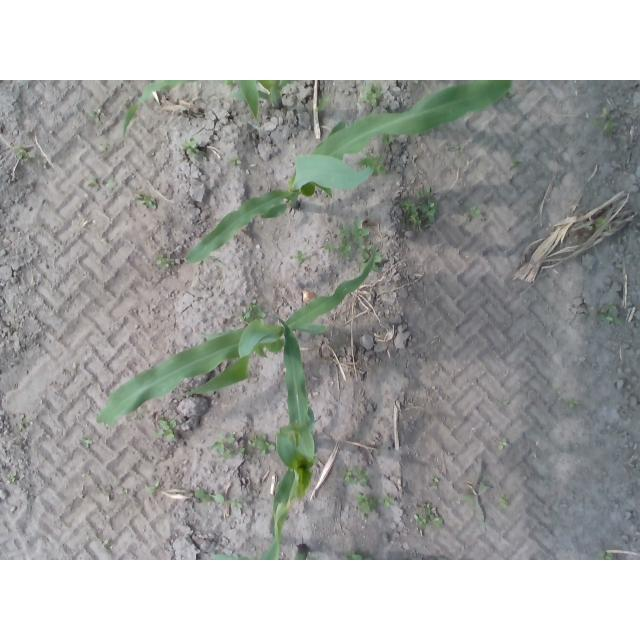Maize: (167, 82, 511, 265), (97, 248, 378, 423), (210, 316, 316, 560), (123, 80, 295, 138)
Weeds: (400, 188, 437, 228), (212, 433, 245, 456), (343, 220, 369, 245), (359, 83, 382, 108), (422, 502, 443, 527), (344, 467, 369, 486), (357, 493, 376, 515), (194, 490, 224, 503), (158, 420, 176, 441), (240, 300, 262, 317), (258, 434, 275, 456), (601, 307, 619, 325), (138, 195, 156, 210), (87, 178, 115, 186), (319, 95, 332, 112), (148, 479, 161, 496), (185, 140, 200, 154), (294, 251, 307, 266), (414, 514, 427, 529), (337, 244, 352, 256), (352, 553, 373, 560), (17, 146, 28, 158), (90, 111, 102, 122), (468, 207, 481, 217), (382, 495, 394, 505), (499, 439, 509, 450), (369, 160, 384, 167), (155, 253, 165, 263), (383, 136, 394, 145), (81, 438, 92, 447), (14, 424, 25, 433), (511, 159, 523, 167), (6, 473, 15, 483), (232, 156, 241, 165), (567, 398, 577, 406), (248, 435, 256, 445), (605, 122, 612, 132), (233, 501, 243, 508), (596, 219, 605, 226), (432, 477, 440, 484), (499, 402, 509, 407), (501, 499, 508, 505), (595, 119, 601, 125)
